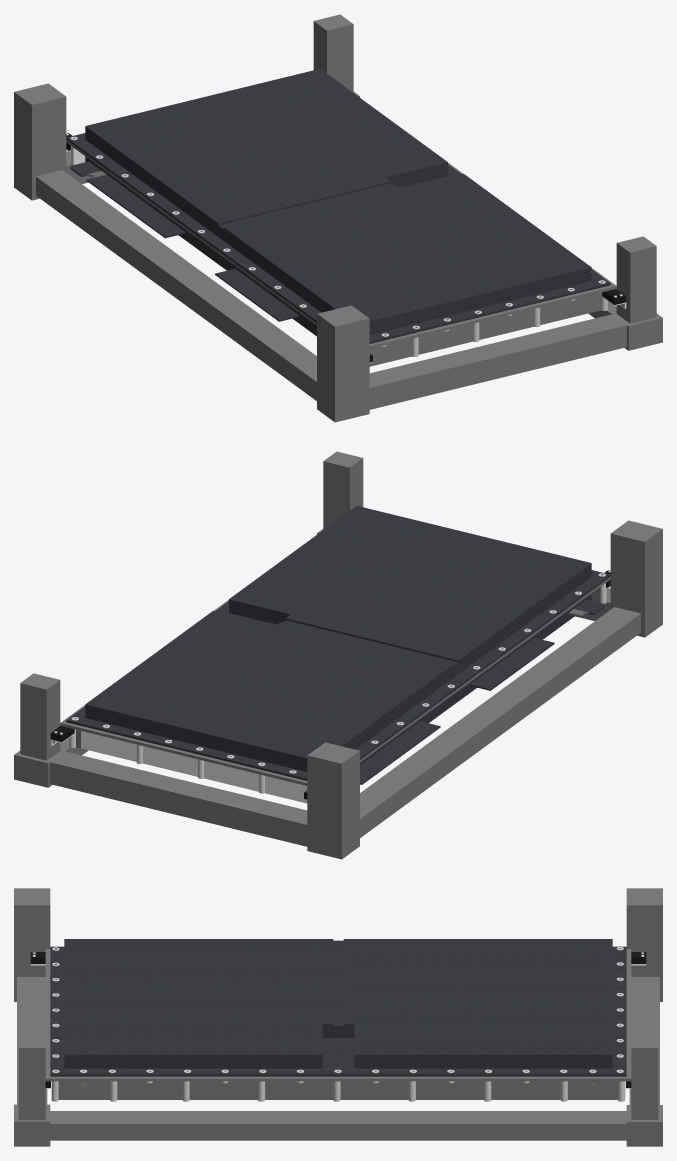
The model's file is one-bat.gltf.
3 views of the same model, one above another, from view 1: azimuth 30°, elevation 25°; view 2: azimuth 150°, elevation 25°; view 3: azimuth 270°, elevation 25° (orthographic).
Visible parts, largest first — view 1: 组件#28, 组件#32, 组件#30; view 2: 组件#28, 组件#32, 组件#30; view 3: 组件#28, 组件#32, 组件#30.
Part boxes in pixels (x1,y1,x2,y2): 组件#28: [66, 69, 610, 343]; 组件#32: [14, 14, 662, 422]; 组件#30: [71, 146, 601, 366]; 组件#28: [66, 506, 610, 784]; 组件#32: [14, 451, 662, 859]; 组件#30: [76, 586, 601, 803]; 组件#28: [50, 939, 626, 1076]; 组件#32: [14, 888, 662, 1146]; 组件#30: [58, 1081, 617, 1099].
Size of the model in its own units: 1.26 by 0.35 by 2.13.
6 materials, 1 textured.
